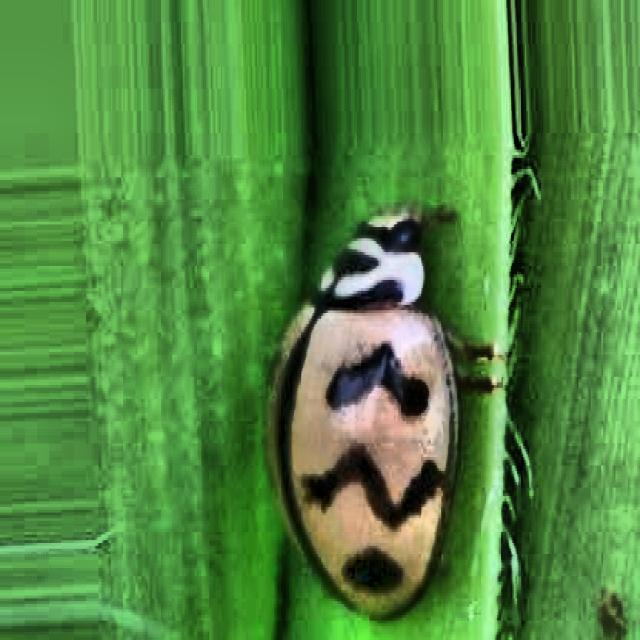Asian-Lady-beetle: (226, 177, 525, 640)
